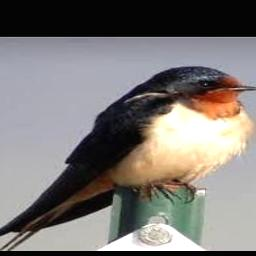Swallow: (0, 65, 256, 251)
